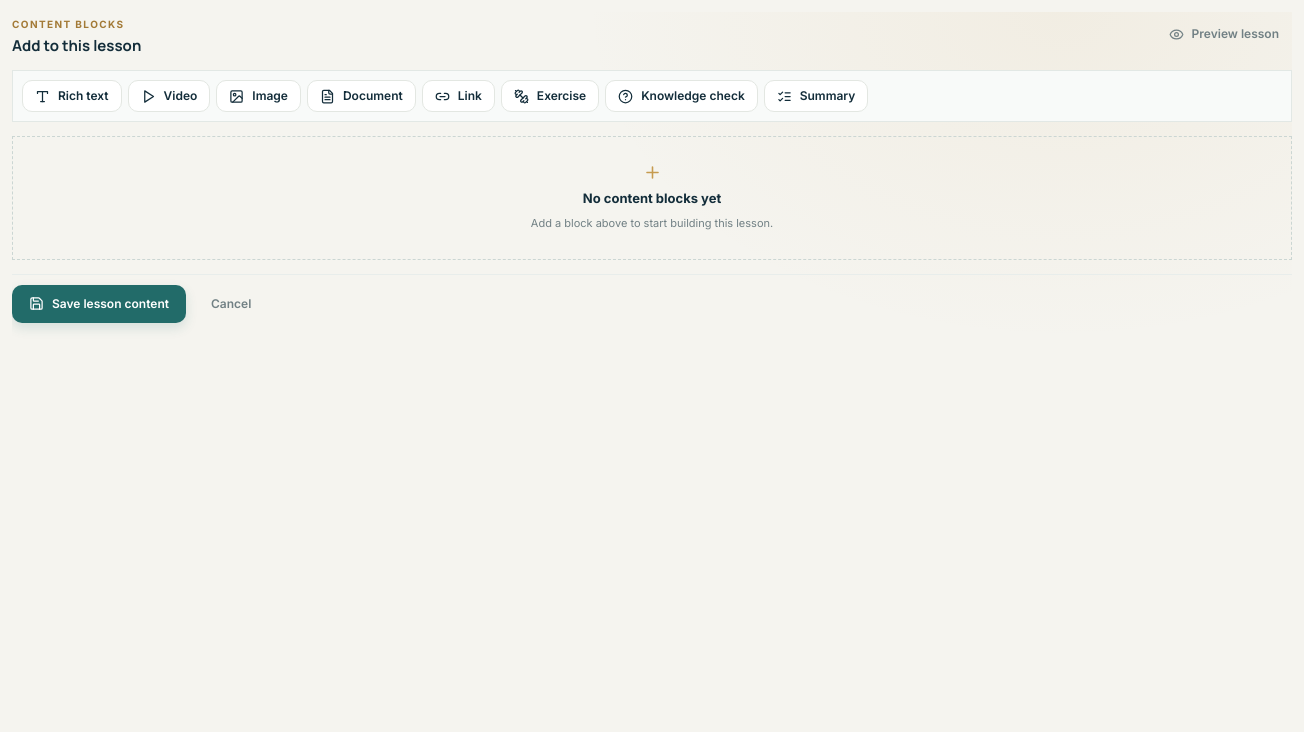
Scenario: LessonContentEditor › adds and edits content blocks without changing their type
This screenshot has width=1304, height=732.
Click the button with aria-label "Add Rich text block": (72, 96) [22,80,122,112]
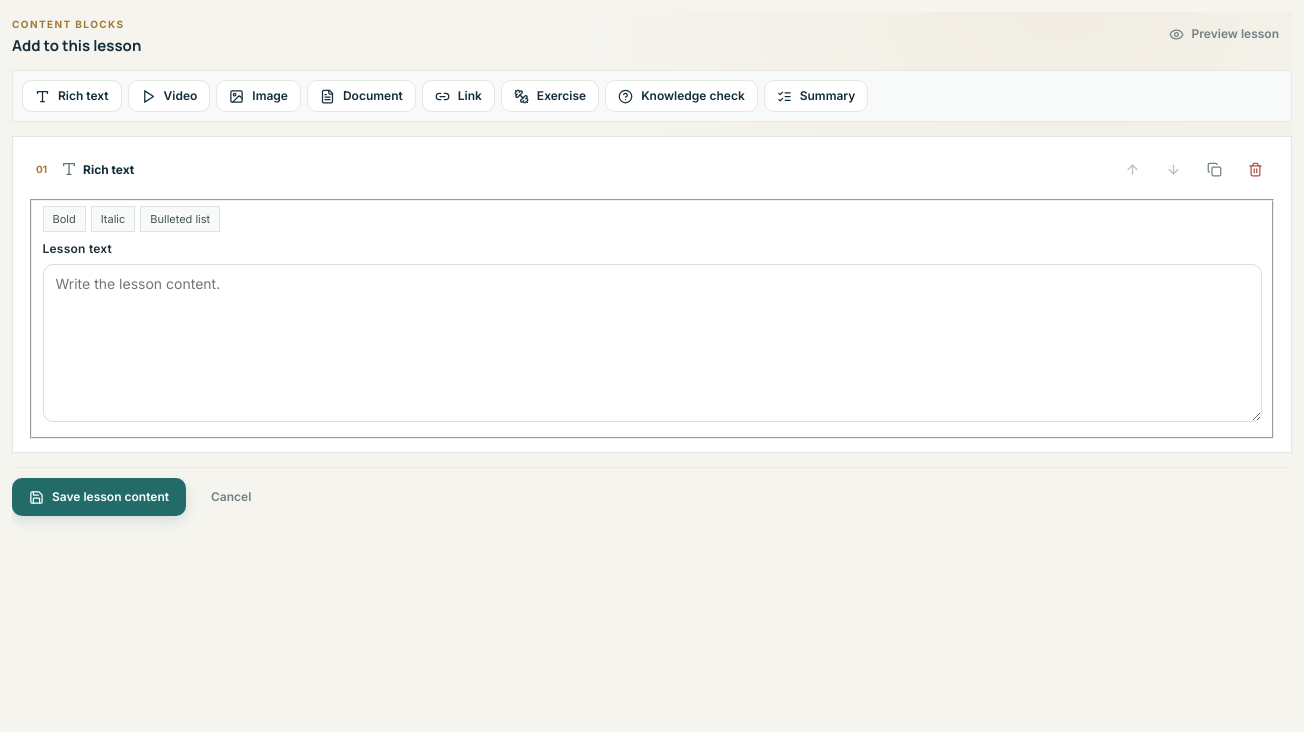
In the text box labelled "Lesson text": (652, 343) [42,264,1262,422], type "Plan the route."
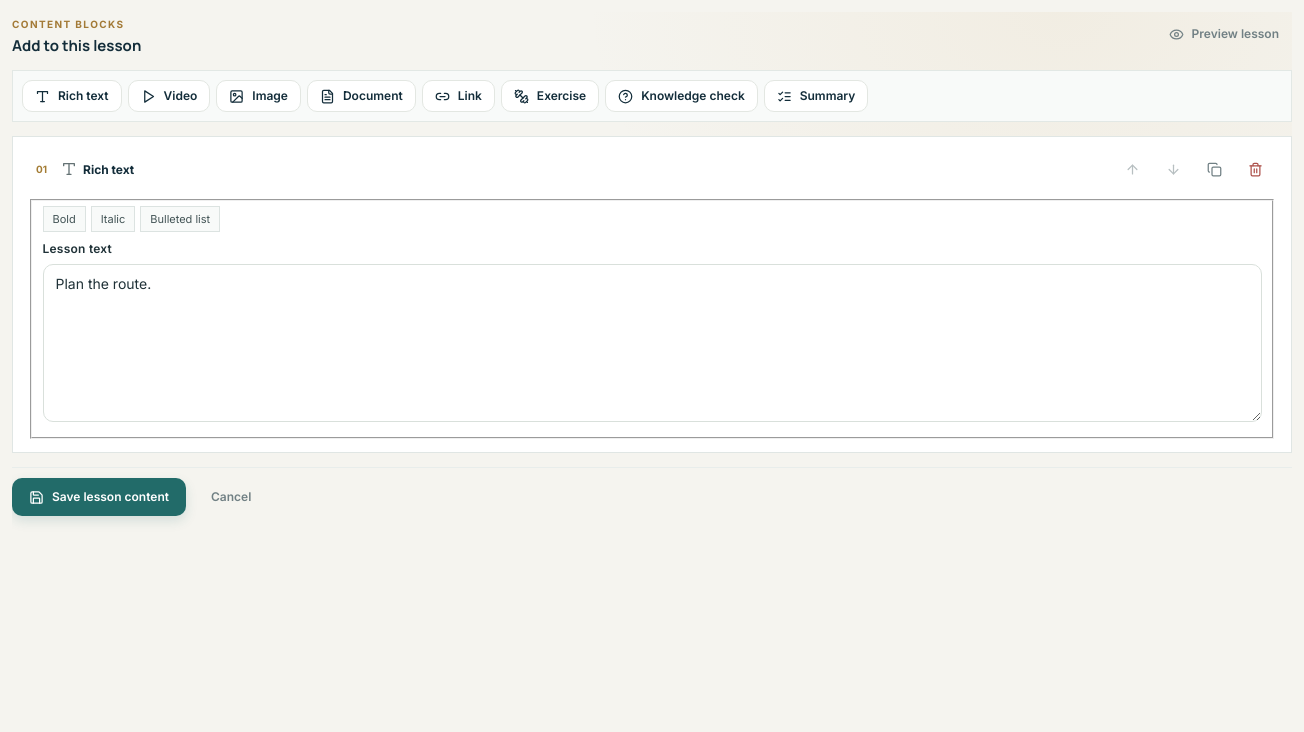
Click the button "Save lesson content": (99, 497) [12,478,186,516]
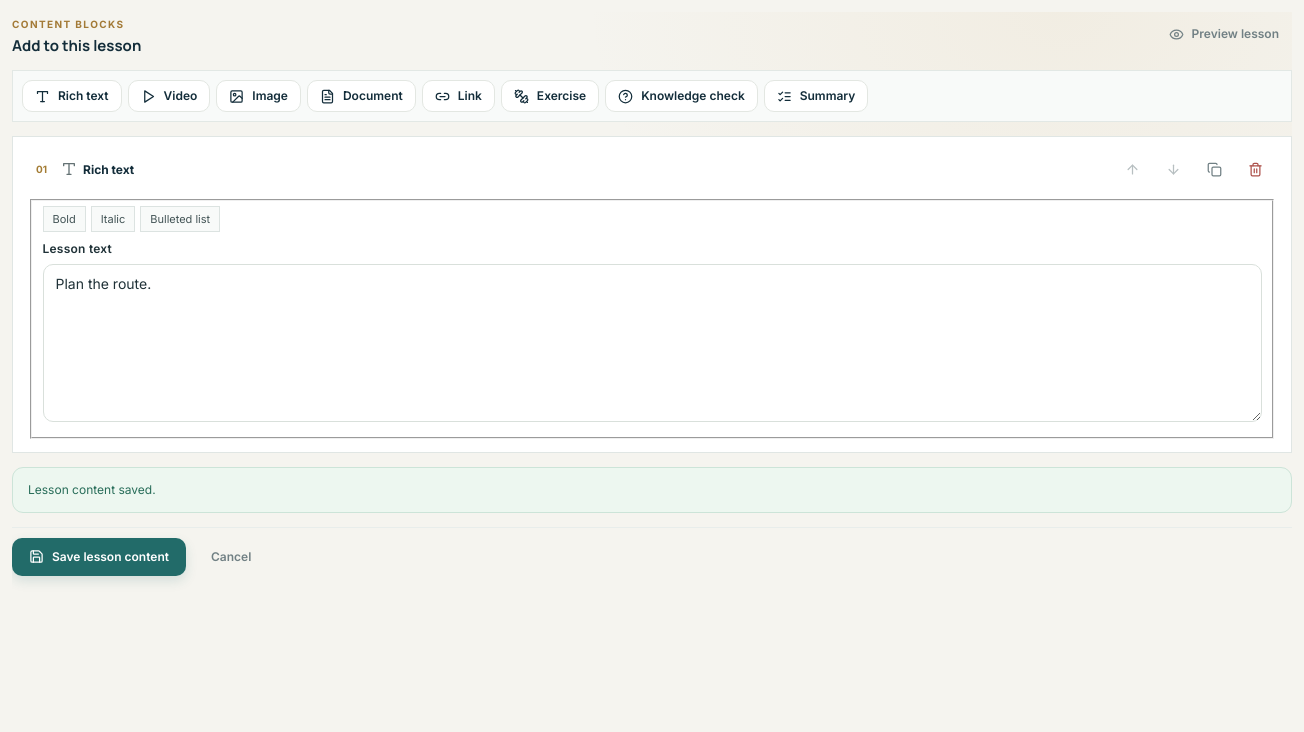
Result: the message reads "Lesson content saved." at [28,482,156,497]
